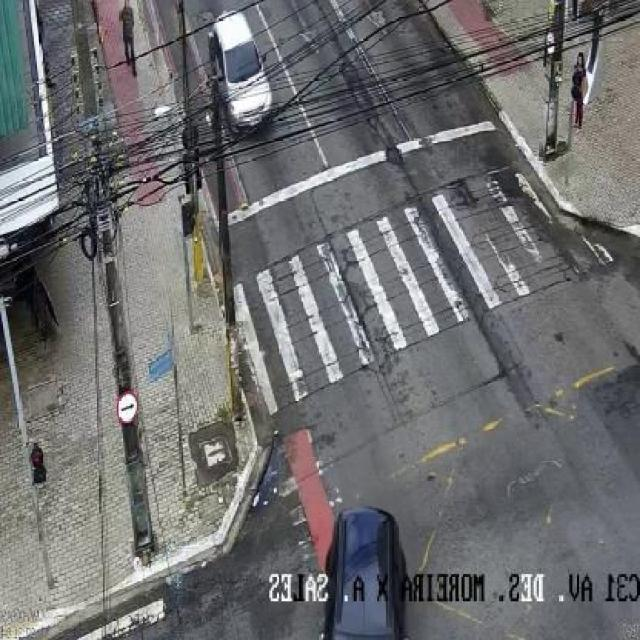Car: (186, 1, 312, 142), (307, 476, 410, 640)
